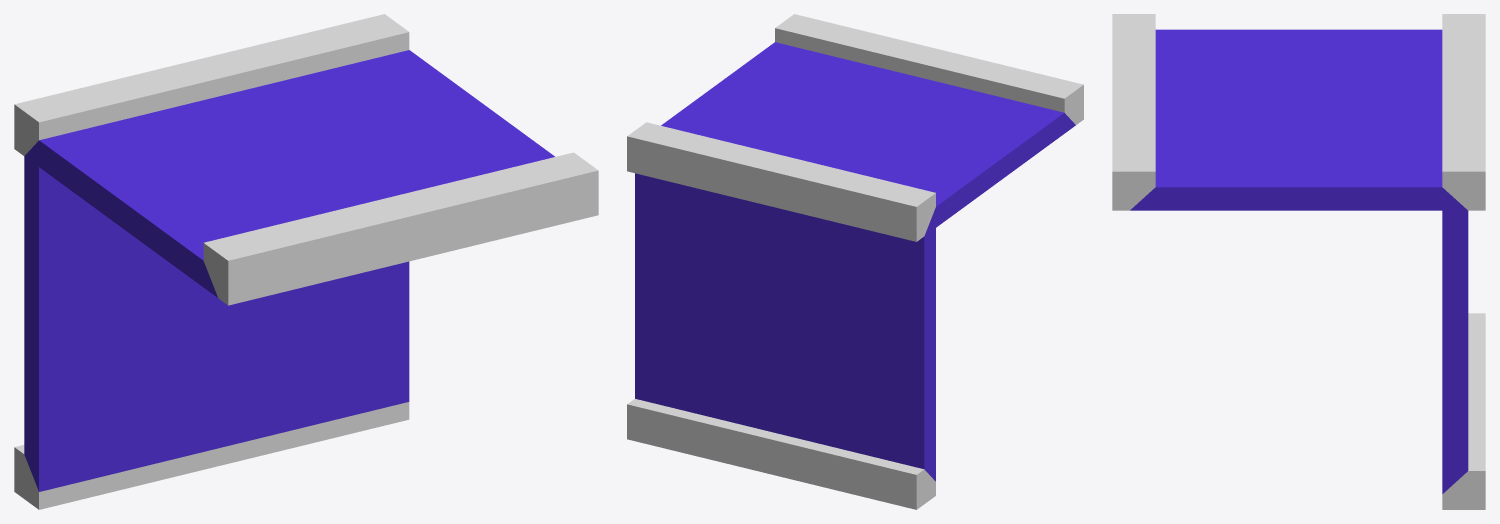
File: Centr_2_empty.fbx
3 renders of one model, left to right at view 1: azimuth 30°, elevation 25°; view 2: azimuth 150°, elevation 25°; view 3: azimuth 270°, elevation 25°, orthographic. The views are drawn at different scales.
Parts seen in each view (by area): view 1: STRONG Base Model.452; view 2: STRONG Base Model.452; view 3: STRONG Base Model.452.
Part boxes in pixels (x1=…): STRONG Base Model.452: x1=14, y1=14, x2=598, y2=509; STRONG Base Model.452: x1=627, y1=14, x2=1083, y2=509; STRONG Base Model.452: x1=1112, y1=14, x2=1485, y2=509.
Bounding box in the file's own units: 21.69 × 21.69 × 21.69.
